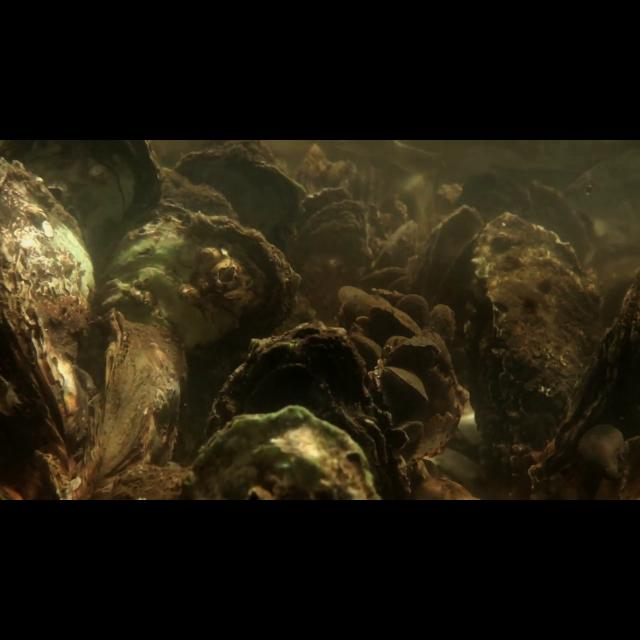Oyster-Closed: (102, 197, 303, 349), (2, 155, 104, 445), (199, 321, 390, 449), (79, 309, 190, 491), (184, 404, 385, 500), (15, 143, 170, 261), (169, 145, 303, 231), (399, 203, 486, 295), (368, 304, 426, 340), (386, 334, 446, 367)
Oyster-Open: (468, 209, 606, 477), (526, 279, 634, 484), (288, 186, 366, 256), (380, 364, 428, 404)
